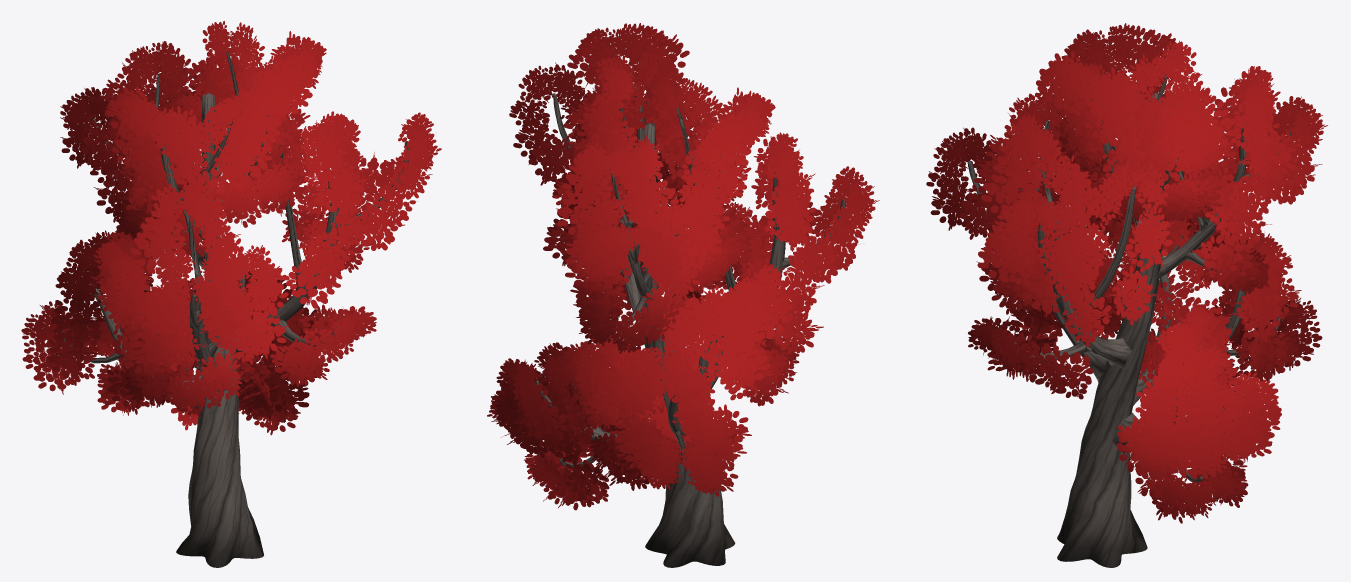
Rendered from TwistedTree_3.gltf.
3 views of the same model, side by side, from view 1: azimuth 30°, elevation 25°; view 2: azimuth 150°, elevation 25°; view 3: azimuth 270°, elevation 25° (orthographic). The views are drawn at different scales.
Parts seen in each view (by area): view 1: TwistedTree_3; view 2: TwistedTree_3; view 3: TwistedTree_3.
Boxes of the visible parts, box(x1,y1,x2,y2) form: TwistedTree_3: box(21, 21, 441, 567); TwistedTree_3: box(487, 23, 879, 567); TwistedTree_3: box(926, 23, 1327, 567).
Size of the model in its own units: 11.36 by 16.07 by 11.51.
2 materials, 2 textured.
